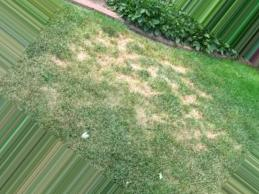patch: (125, 70, 143, 87), (119, 43, 129, 64), (99, 50, 110, 66), (149, 65, 159, 74), (135, 105, 140, 114)
